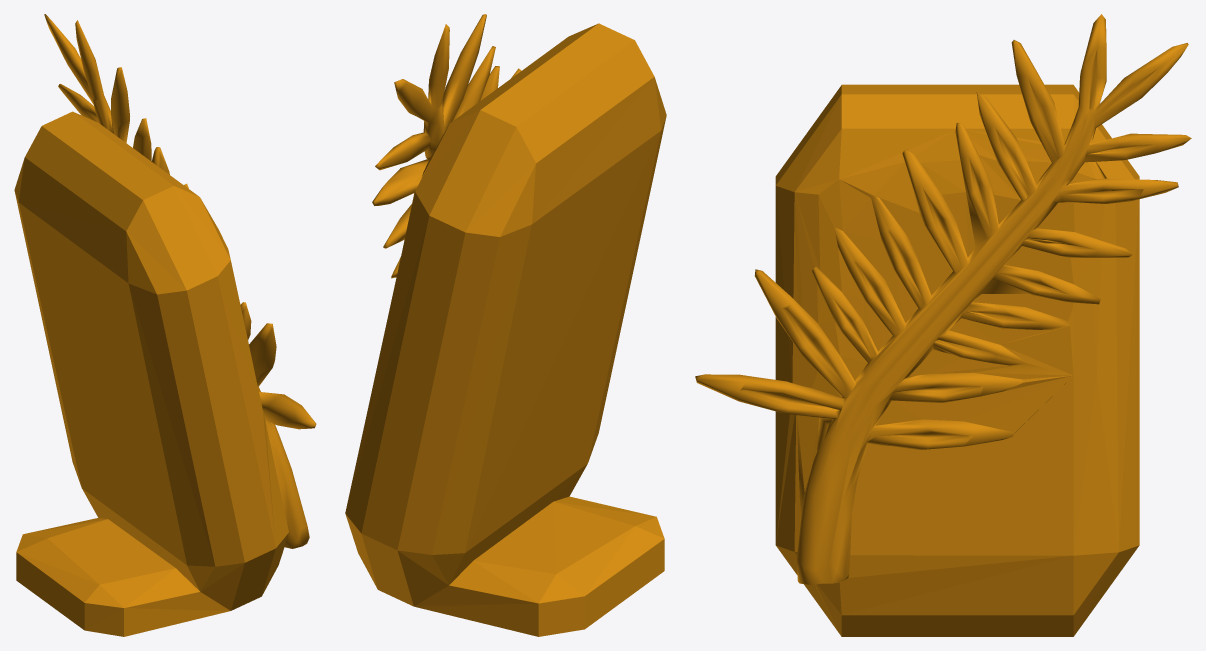
File: golden_palm.obj
The picture shows the model from 3 angles, left to right: view 1: azimuth 30°, elevation 25°; view 2: azimuth 150°, elevation 25°; view 3: azimuth 270°, elevation 25°; orthographic projection. The views are drawn at different scales.
Parts seen in each view (by area): view 1: PalmeDor3LOGO_0.001; view 2: PalmeDor3LOGO_0.001; view 3: PalmeDor3LOGO_0.001.
Boxes of the visible parts, x1,y1,x2,y2 form: PalmeDor3LOGO_0.001: (14,14,316,636); PalmeDor3LOGO_0.001: (345,14,666,636); PalmeDor3LOGO_0.001: (695,14,1191,636).
Bounding box in the file's own units: 0.8186 × 2.08 × 1.59.
